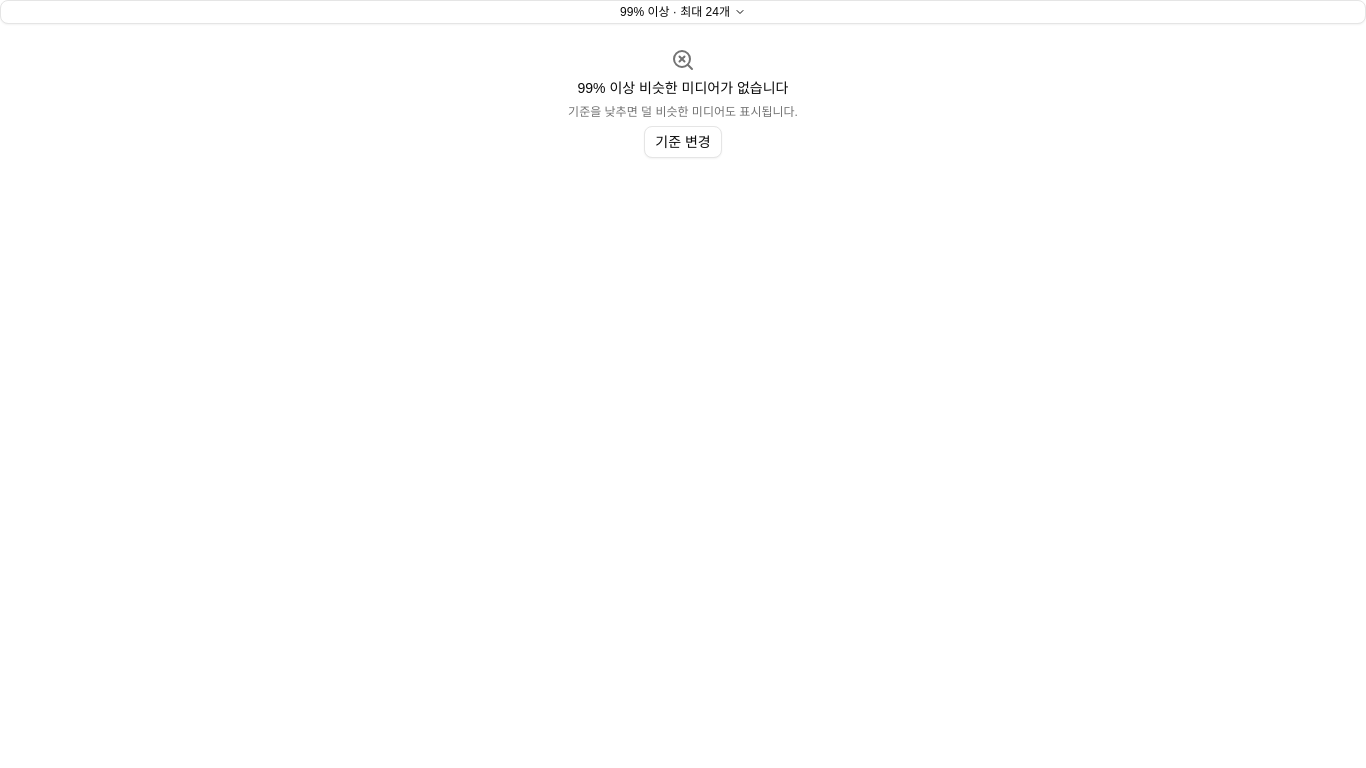
Test: SimilarTab 기준 안내·빈 상태 › T-ui-similar-17 [Business rule] zero results with a threshold shows the threshold empty state and its button opens the criteria popover (not the settings screen
Expected: the text "99% 이상 비슷한 미디어가 없습니다" is shown, x1=578 y1=78 x2=788 y2=98
Click the button "기준 변경" at [683, 142], box x1=644 y1=126 x2=722 y2=158
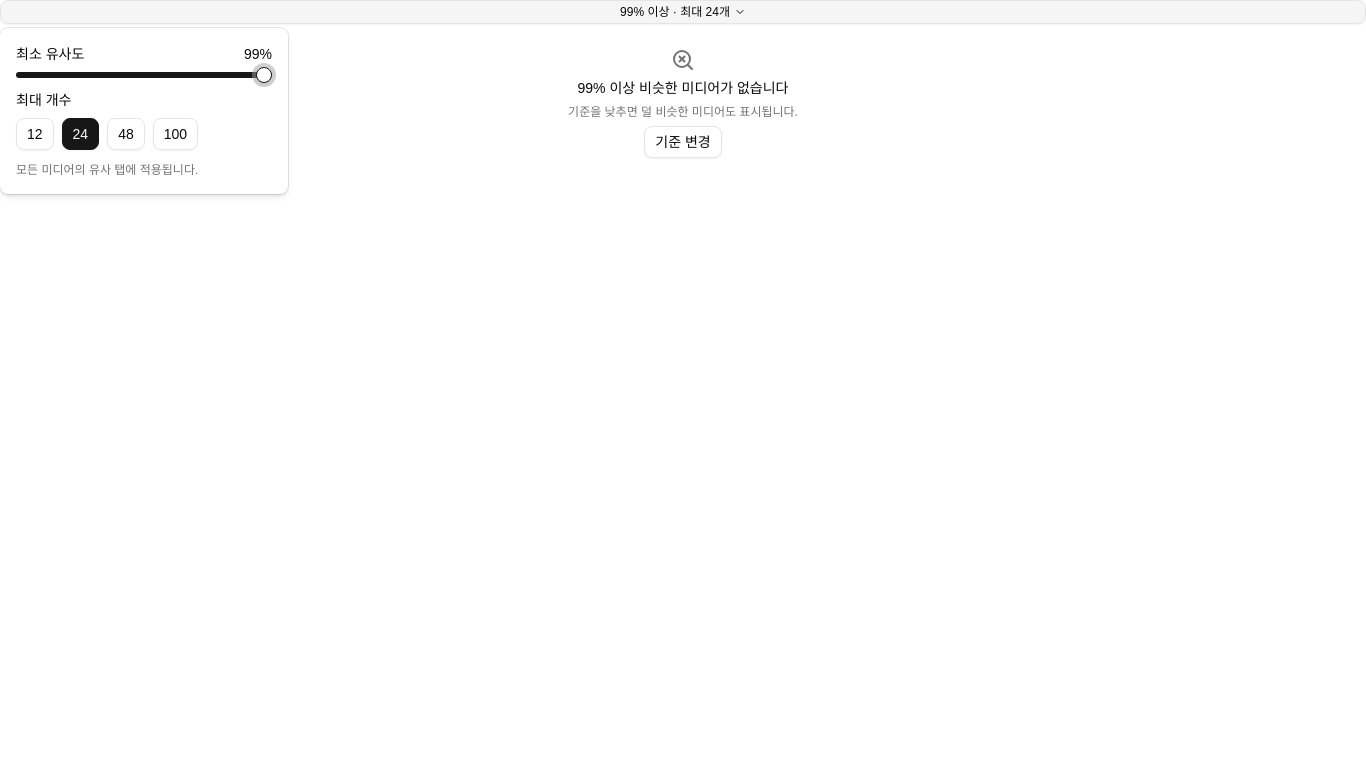
Now the slider named "최소 유사도" is shown, box x1=256 y1=67 x2=272 y2=83
